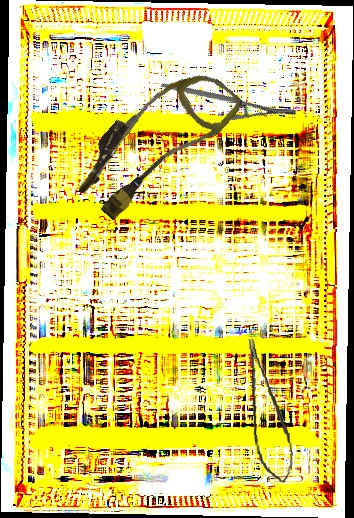Cannula: (65, 46, 246, 236)
Micro Scissor: (243, 335, 297, 486)
Needle Holder: (160, 42, 299, 155)
